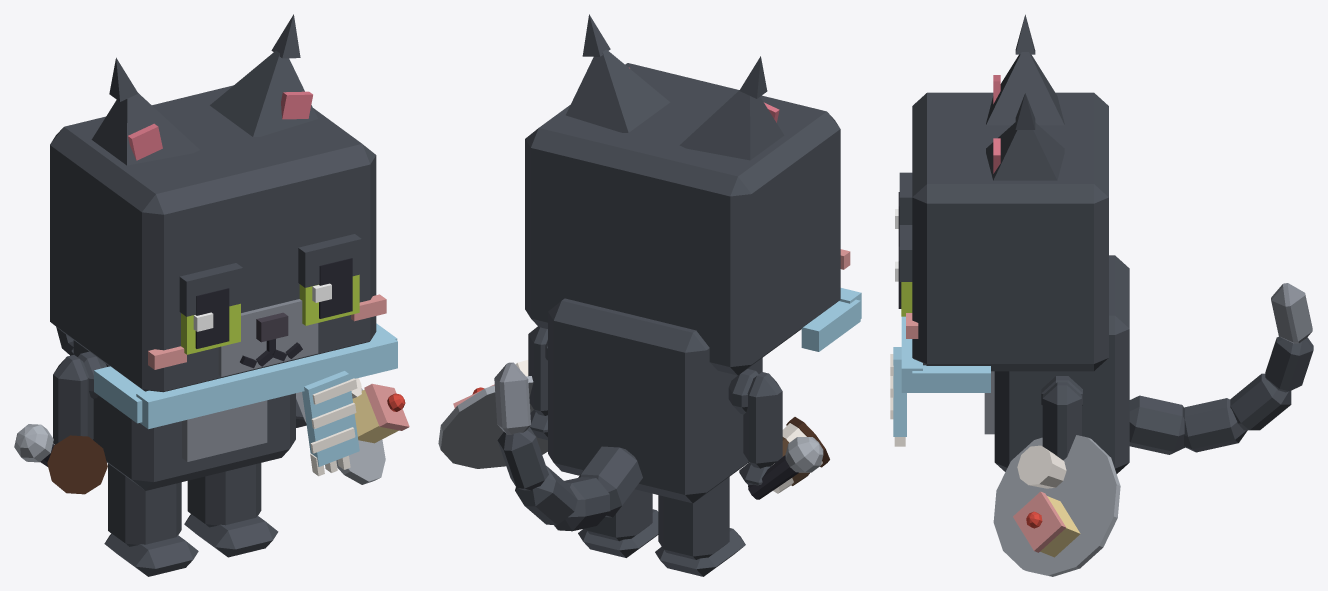
File: CatCafe_Cat_Smoke_Work.glb
3 views of the same model, side by side, from view 1: azimuth 30°, elevation 25°; view 2: azimuth 150°, elevation 25°; view 3: azimuth 270°, elevation 25° (orthographic). The views are drawn at different scales.
Parts seen in each view (by area): view 1: CatCafe_Cat_Smoke_Work_Head, CatCafe_Cat_Smoke_Work_Prop, CatCafe_Cat_Smoke_Work_Body, CatCafe_Cat_Smoke_Work_LegB2, CatCafe_Cat_Smoke_Work_EarL, CatCafe_Cat_Smoke_Work_LegB1, CatCafe_Cat_Smoke_Work_EarR, CatCafe_Cat_Smoke_Work_Eye2, CatCafe_Cat_Smoke_Work_Eye1, CatCafe_Cat_Smoke_Work_Held_Waiter, CatCafe_Cat_Smoke_Work_LegF2, CatCafe_Cat_Smoke_Work_Held_Barista (+1 smaller); view 2: CatCafe_Cat_Smoke_Work_Head, CatCafe_Cat_Smoke_Work_Body, CatCafe_Cat_Smoke_Work_Tail, CatCafe_Cat_Smoke_Work_LegB2, CatCafe_Cat_Smoke_Work_EarL, CatCafe_Cat_Smoke_Work_EarR, CatCafe_Cat_Smoke_Work_Held_Waiter, CatCafe_Cat_Smoke_Work_LegF2, CatCafe_Cat_Smoke_Work_LegB1, CatCafe_Cat_Smoke_Work_Prop, CatCafe_Cat_Smoke_Work_Held_Entertainer, CatCafe_Cat_Smoke_Work_LegF1 (+1 smaller); view 3: CatCafe_Cat_Smoke_Work_Head, CatCafe_Cat_Smoke_Work_Held_Waiter, CatCafe_Cat_Smoke_Work_Body, CatCafe_Cat_Smoke_Work_Tail, CatCafe_Cat_Smoke_Work_Prop, CatCafe_Cat_Smoke_Work_EarL, CatCafe_Cat_Smoke_Work_EarR, CatCafe_Cat_Smoke_Work_LegF1, CatCafe_Cat_Smoke_Work_Eye1, CatCafe_Cat_Smoke_Work_Eye2.
Part boxes in pixels (<box>): CatCafe_Cat_Smoke_Work_Head: <box>50,85,386,392</box>; CatCafe_Cat_Smoke_Work_Prop: <box>94,323,397,476</box>; CatCafe_Cat_Smoke_Work_Body: <box>73,340,295,490</box>; CatCafe_Cat_Smoke_Work_LegB2: <box>104,463,198,576</box>; CatCafe_Cat_Smoke_Work_EarL: <box>210,14,317,136</box>; CatCafe_Cat_Smoke_Work_LegB1: <box>184,463,278,557</box>; CatCafe_Cat_Smoke_Work_EarR: <box>91,57,199,165</box>; CatCafe_Cat_Smoke_Work_Eye2: <box>179,263,242,354</box>; CatCafe_Cat_Smoke_Work_Eye1: <box>298,234,361,325</box>; CatCafe_Cat_Smoke_Work_Held_Waiter: <box>296,378,409,484</box>; CatCafe_Cat_Smoke_Work_LegF2: <box>53,355,93,444</box>; CatCafe_Cat_Smoke_Work_Held_Barista: <box>47,435,107,494</box>; CatCafe_Cat_Smoke_Work_Head: <box>525,63,850,375</box>; CatCafe_Cat_Smoke_Work_Body: <box>545,298,762,503</box>; CatCafe_Cat_Smoke_Work_Tail: <box>494,362,642,531</box>; CatCafe_Cat_Smoke_Work_LegB2: <box>655,477,745,576</box>; CatCafe_Cat_Smoke_Work_EarL: <box>566,14,670,132</box>; CatCafe_Cat_Smoke_Work_EarR: <box>679,56,784,160</box>; CatCafe_Cat_Smoke_Work_Held_Waiter: <box>438,360,547,468</box>; CatCafe_Cat_Smoke_Work_LegF2: <box>739,372,782,485</box>; CatCafe_Cat_Smoke_Work_LegB1: <box>578,489,658,557</box>; CatCafe_Cat_Smoke_Work_Prop: <box>801,288,861,351</box>; CatCafe_Cat_Smoke_Work_Held_Entertainer: <box>748,437,823,499</box>; CatCafe_Cat_Smoke_Work_LegF1: <box>528,326,547,440</box>; CatCafe_Cat_Smoke_Work_Head: <box>906,92,1108,371</box>; CatCafe_Cat_Smoke_Work_Held_Waiter: <box>993,435,1120,576</box>; CatCafe_Cat_Smoke_Work_Body: <box>984,255,1129,473</box>; CatCafe_Cat_Smoke_Work_Tail: <box>1129,283,1313,454</box>; CatCafe_Cat_Smoke_Work_Prop: <box>890,316,990,446</box>; CatCafe_Cat_Smoke_Work_EarL: <box>986,93,1064,180</box>; CatCafe_Cat_Smoke_Work_EarR: <box>986,14,1064,125</box>; CatCafe_Cat_Smoke_Work_LegF1: <box>1042,382,1081,460</box>; CatCafe_Cat_Smoke_Work_Eye1: <box>895,225,912,316</box>; CatCafe_Cat_Smoke_Work_Eye2: <box>895,172,912,246</box>.
Bounding box in the file's own units: 1.53 × 2.03 × 1.64.
Materials: 1 (1 with a texture image).
